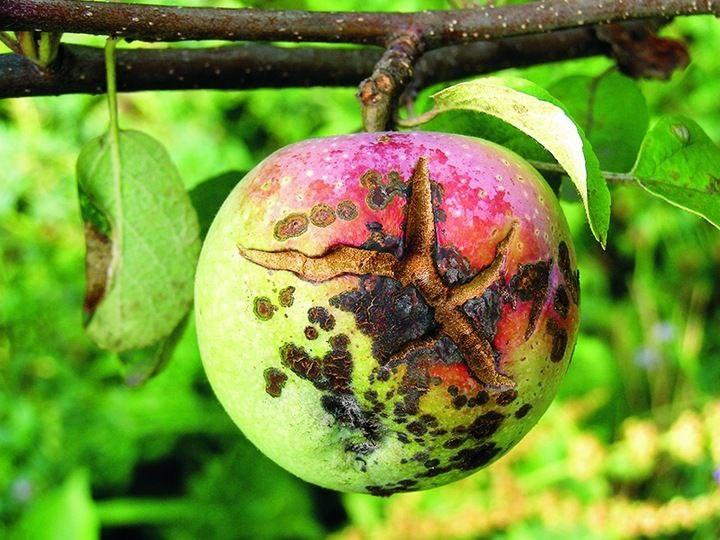Apple: (194, 131, 578, 497)
